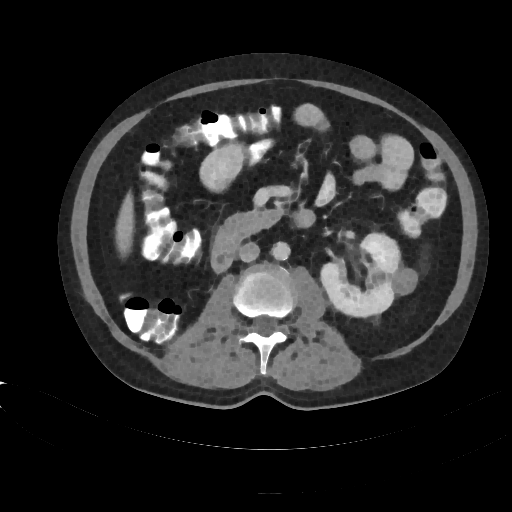Lesion: (391, 268, 421, 297)
